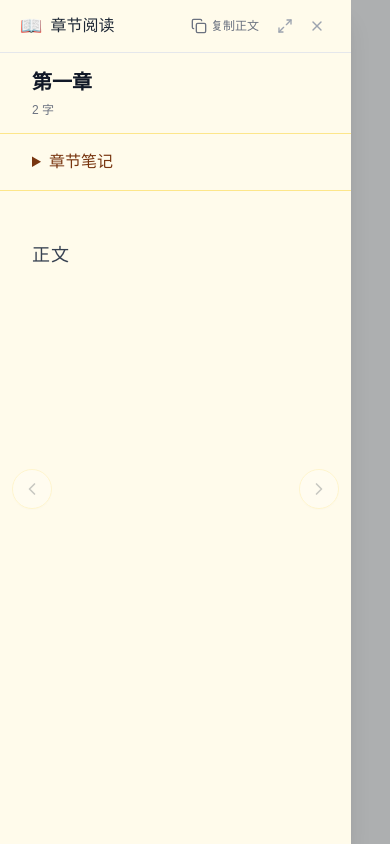
it: NodeDetailDrawer › enlarges chapter typography in fullscreen mode
The width and height of the screenshot is (390, 844).
Expected: the element with class "leading-relaxed" is shown, [32,245,70,265]
Click the button titled "全屏查看" at (285, 26), box [271,12,299,40]
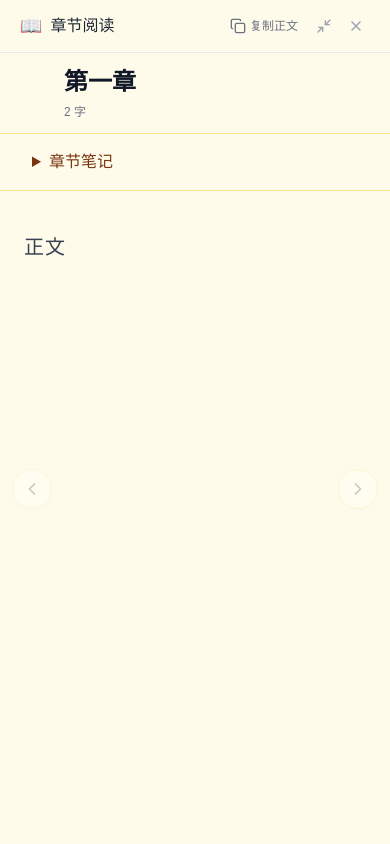
Expected: the element with class "leading-relaxed" is shown, [24,236,66,258]
Expected: the heading "第一章" is shown, [64,68,136,95]
